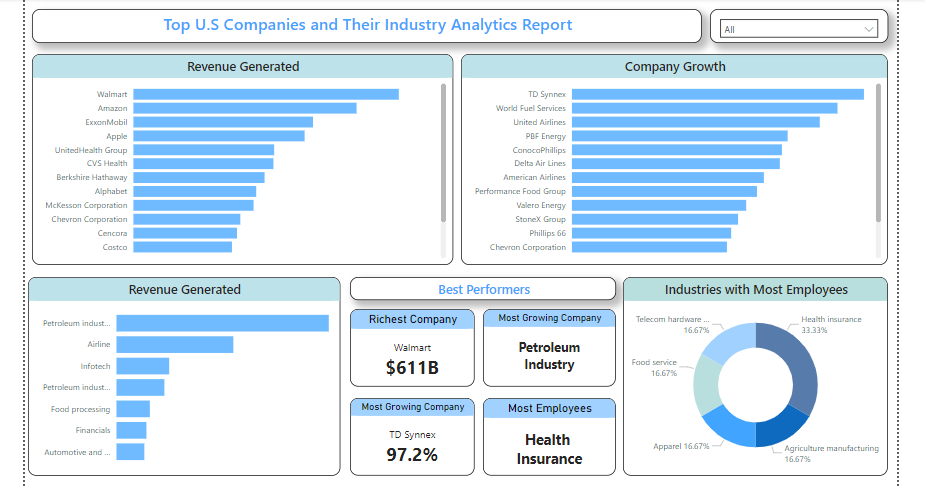

This screenshot's page, from the dashboard's own definition file:
{"tool":"tableau","page":{"name":"Dashboard 1","canvas":[1000,1000],"units":"permille","ordinal":0},"visuals":[{"type":"text","box":[0,0,1000,85.1]},{"type":"legend","title":"Revenue by industry","param":"[federated.0clx7q80vmoom61cwr9ah1erekcd].[usr:Calculation_531424772327870464:nk]","box":[620.8,14.5,138.5,119.6]},{"type":"worksheet","title":"top company","mark":"Automatic","rows":["Name","Industry"],"box":[0,85.1,1000,192]},{"type":"legend","title":"Sheet 4","param":"[federated.0clx7q80vmoom61cwr9ah1erekcd].[sum:Employees:qk]","box":[620.8,134.1,138.5,117.8]},{"type":"worksheet","title":"Revenue by industry","mark":"Automatic","rows":["Industry"],"cols":["Revenue"],"box":[0,277.2,500,356.9]},{"type":"worksheet","title":"Sheet 4","mark":"Automatic","rows":["Name"],"cols":["Employees"],"box":[500,277.2,500,356.9]},{"type":"worksheet","title":"Number of Employees","mark":"Automatic","box":[0,634.1,297.8,360.5]},{"type":"worksheet","title":"Sheet 5","mark":"Automatic","box":[297.8,634.1,702.2,360.5]}]}

Visuals, with their boxes on the dashboard's canvas, which has no fixed pixel size, in thousandths of its width and height (x1, y1, x2, y2). These are canvas units, not pixel positions in the 925x487 screenshot, which may show the page scaled, cropped or inside an application window:
text: 0, 0, 1000, 85
"Revenue by industry" legend: 621, 14, 759, 134
"top company" worksheet: 0, 85, 1000, 277
"Sheet 4" legend: 621, 134, 759, 252
"Revenue by industry" worksheet: 0, 277, 500, 634
"Sheet 4" worksheet: 500, 277, 1000, 634
"Number of Employees" worksheet: 0, 634, 298, 995
"Sheet 5" worksheet: 298, 634, 1000, 995
